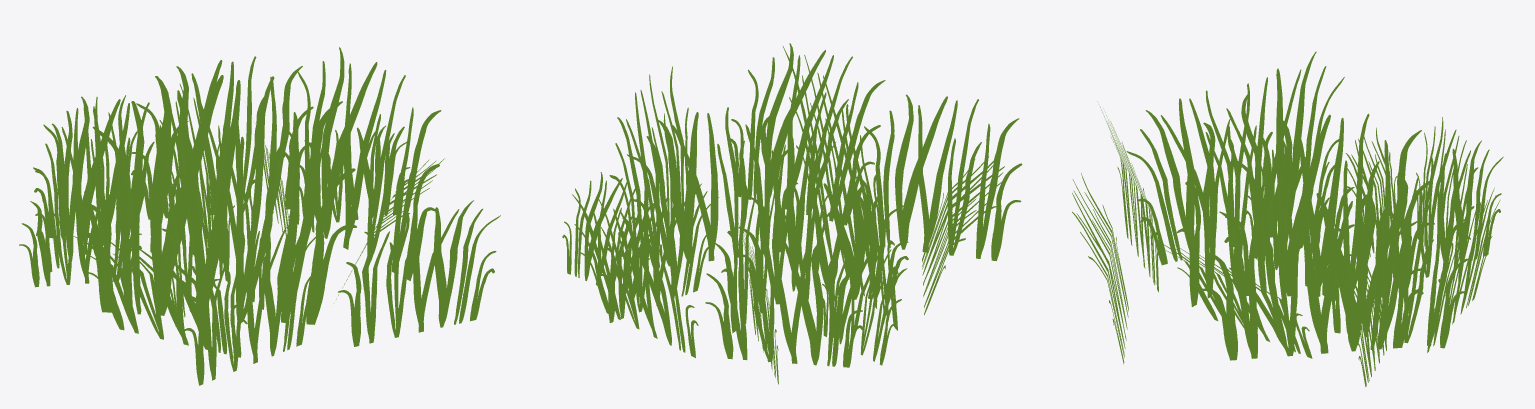
The model's file is MEADOW_SM_Grass_01_02.gltf.
The picture shows the model from 3 angles, left to right: view 1: azimuth 30°, elevation 25°; view 2: azimuth 150°, elevation 25°; view 3: azimuth 270°, elevation 25°; orthographic projection. The views are drawn at different scales.
Visible parts, largest first — view 1: SM_Grass_01_02_LOD0; view 2: SM_Grass_01_02_LOD0; view 3: SM_Grass_01_02_LOD0.
Part boxes in pixels (x1,y1,x2,y2): SM_Grass_01_02_LOD0: (19, 47, 500, 385); SM_Grass_01_02_LOD0: (562, 43, 1022, 384); SM_Grass_01_02_LOD0: (1072, 51, 1503, 386).
Bounding box in the file's own units: 0.7823 × 0.4162 × 0.7696.
Materials: 1 (1 with a texture image).
